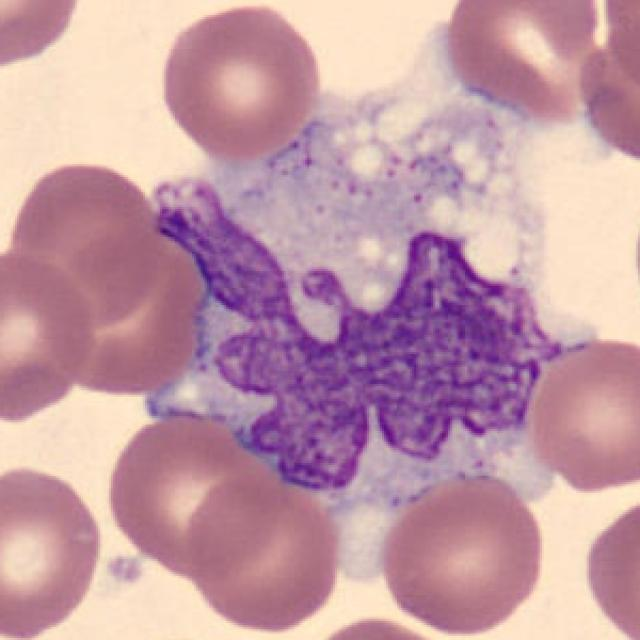White Blood Cell: (150, 40, 562, 568)
